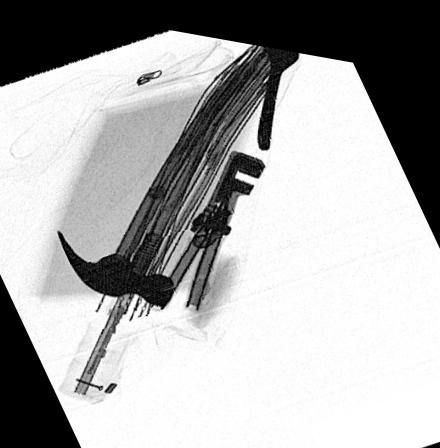Hammer: (56, 99, 212, 299)
Pliers: (145, 140, 267, 307)
Wrench: (258, 37, 297, 140)
